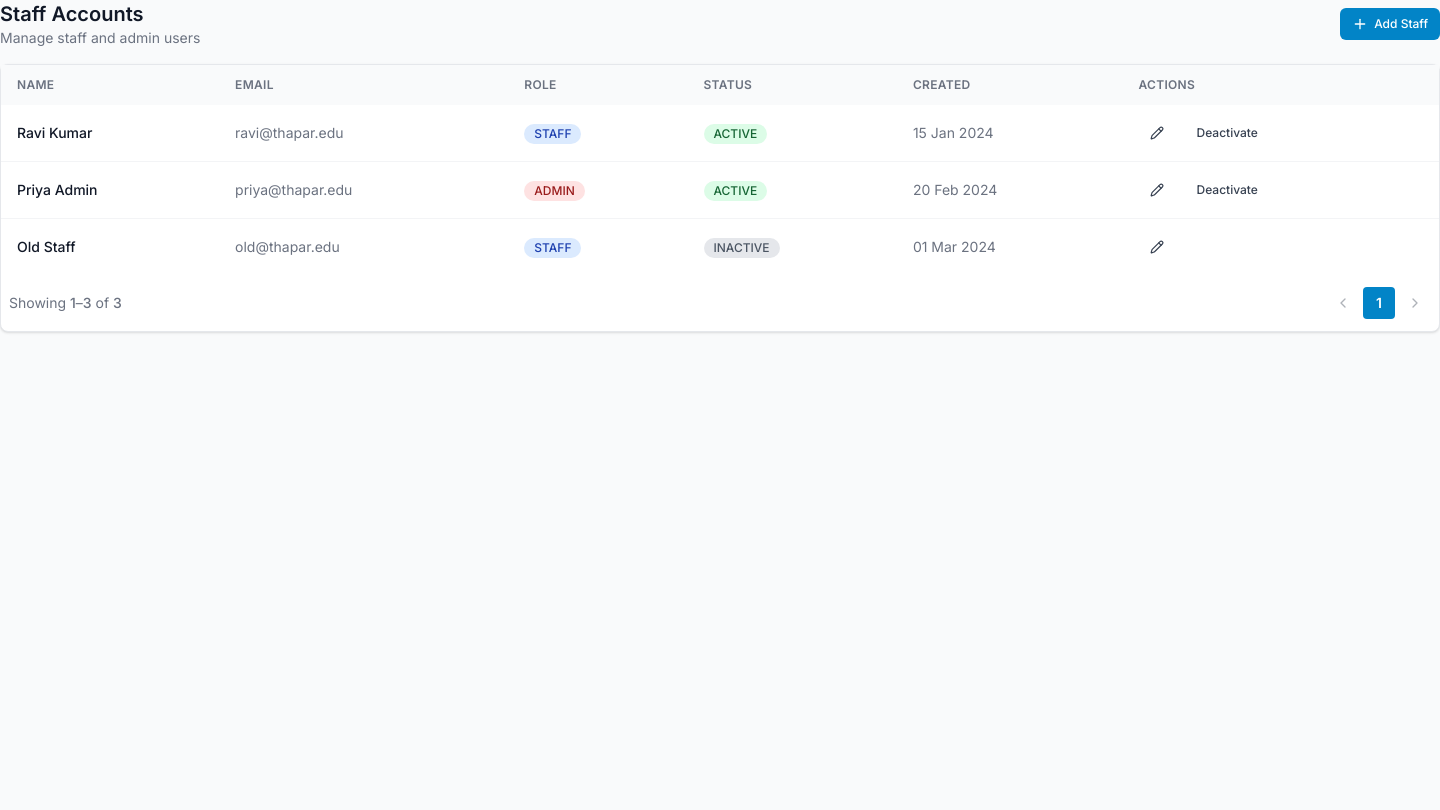
Test: StaffPage › validates required fields before submitting create form
Check: the text "Ravi Kumar" is shown, box [1, 105, 219, 162]
What coordinates should you click on to do the following:
click the button "Add Staff"
I would click on:
 (1390, 24)
Its box is [1340, 8, 1439, 40].
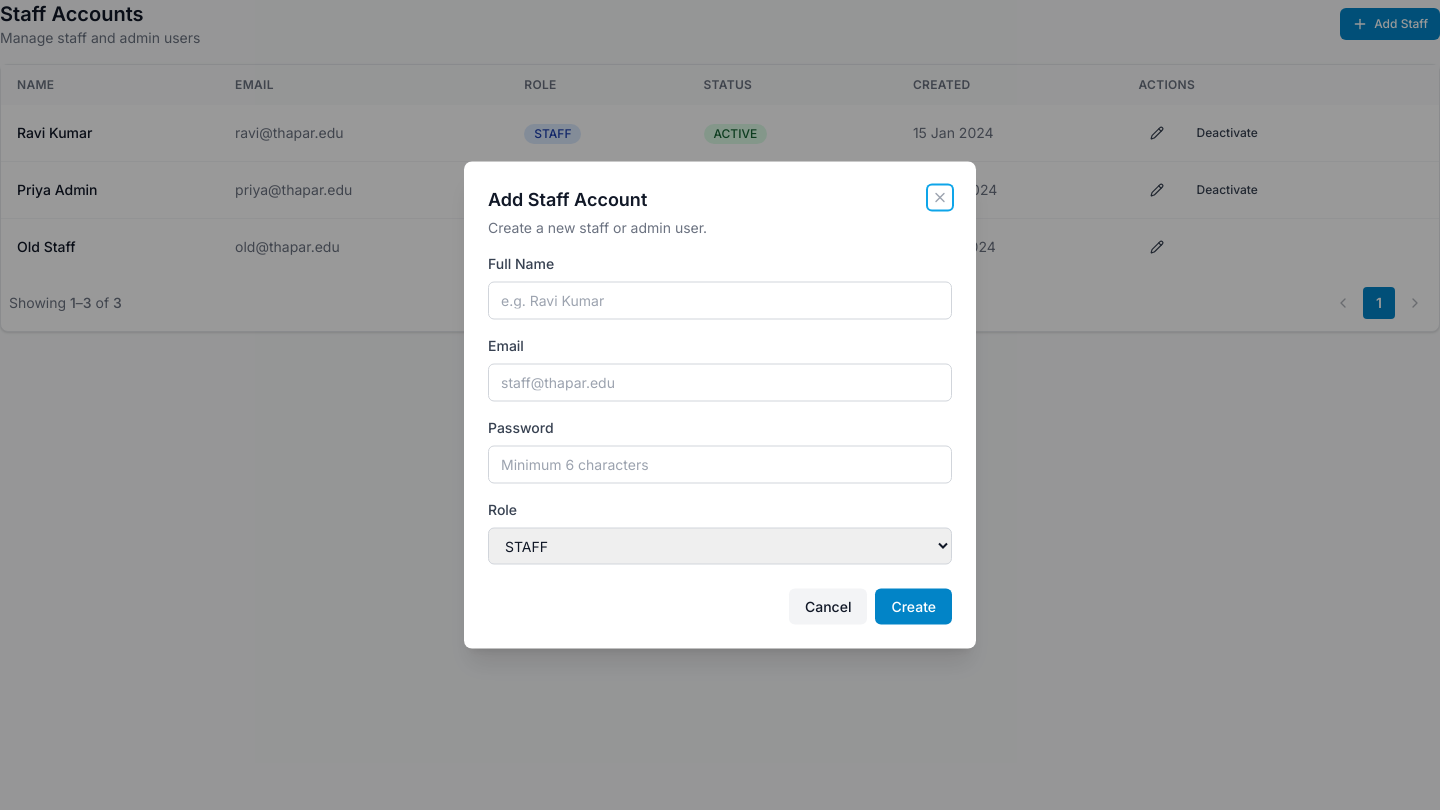
Check: the field labelled "Full Name" is shown, box [488, 282, 952, 320]
// Submit without filling anything
What coordinates should you click on to do the following:
click the button "Create"
I would click on:
 (914, 606)
Its box is [875, 588, 952, 624].
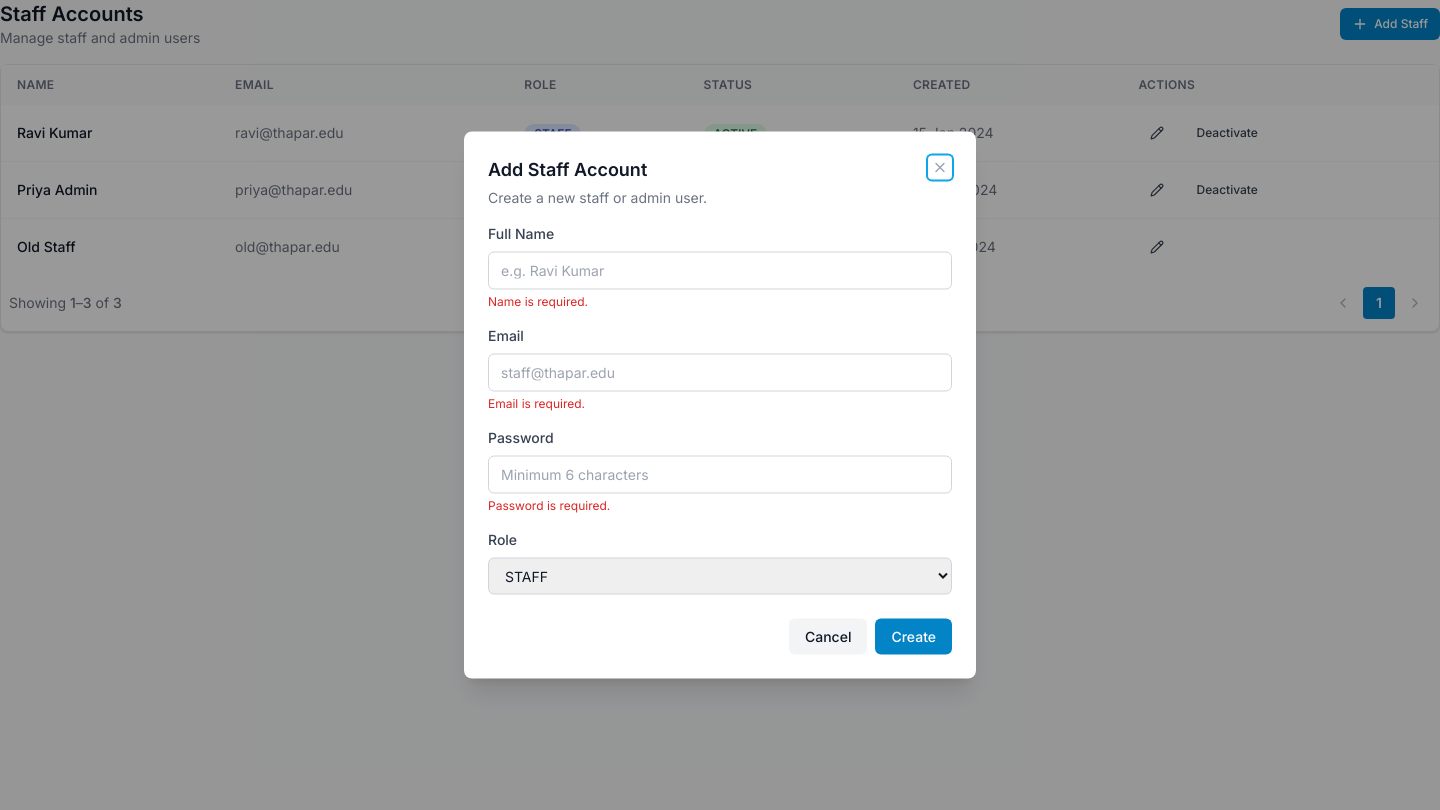
Check: the text "Name is required." is shown, box [488, 294, 588, 308]
